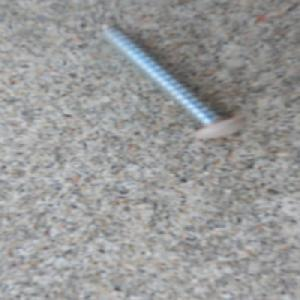Screw: (95, 21, 246, 140)
